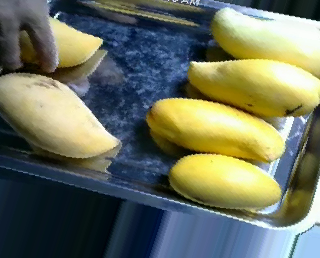Mango: (0, 71, 127, 165), (143, 91, 289, 165), (184, 51, 320, 122), (203, 0, 320, 78), (166, 150, 284, 216), (4, 12, 102, 65)
